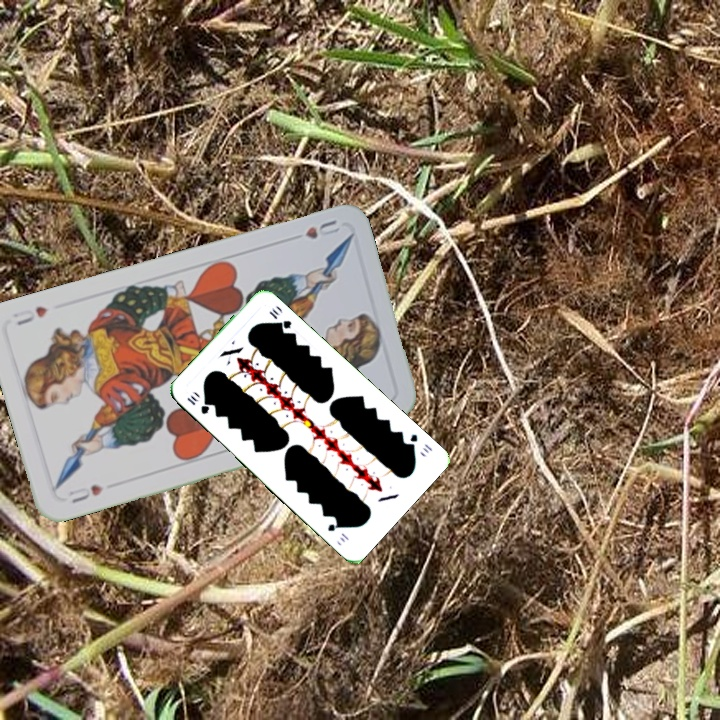G10: (404, 430, 435, 456), (183, 391, 212, 417)
HU: (301, 215, 342, 242), (64, 480, 106, 506)
